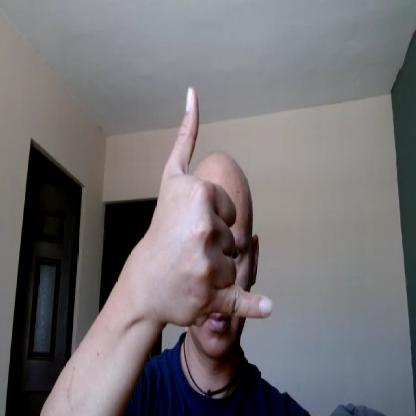Y: (152, 88, 274, 328)
